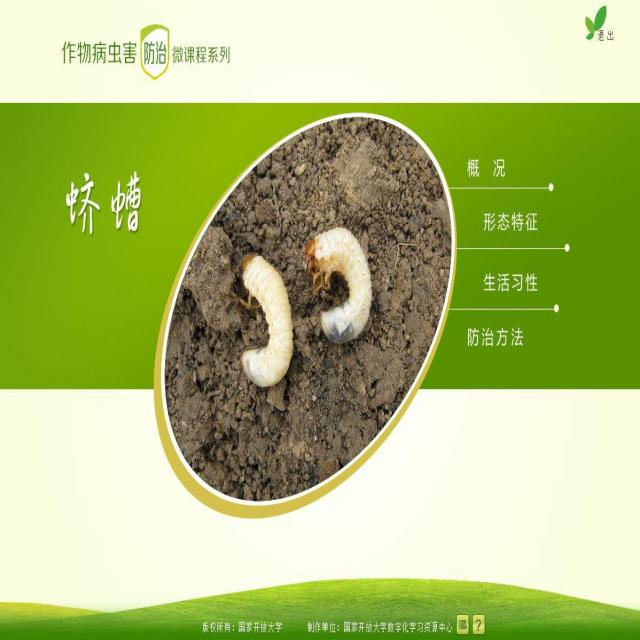Grub-Adult-: (228, 241, 304, 402), (302, 224, 379, 360)
